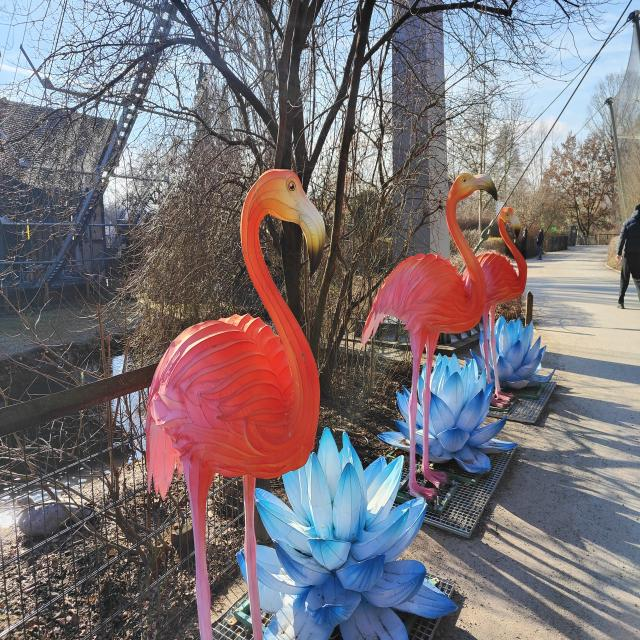bird: (144, 169, 326, 640), (361, 172, 498, 508), (462, 206, 527, 408)
